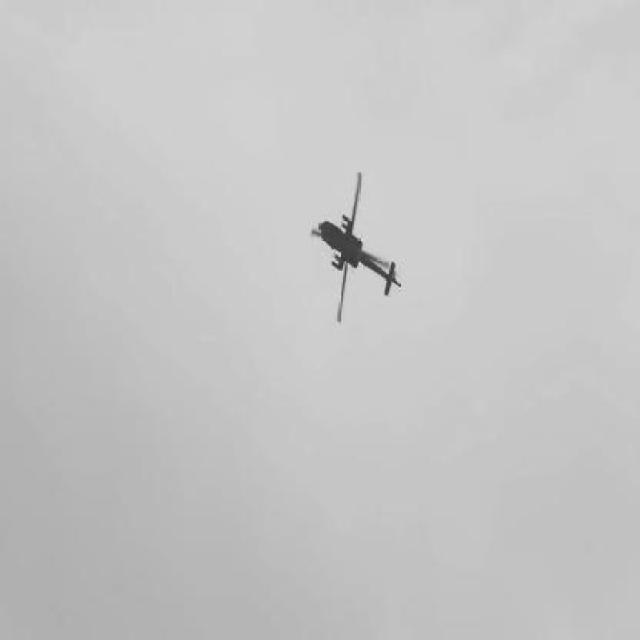Helicopter: (311, 170, 403, 324)
